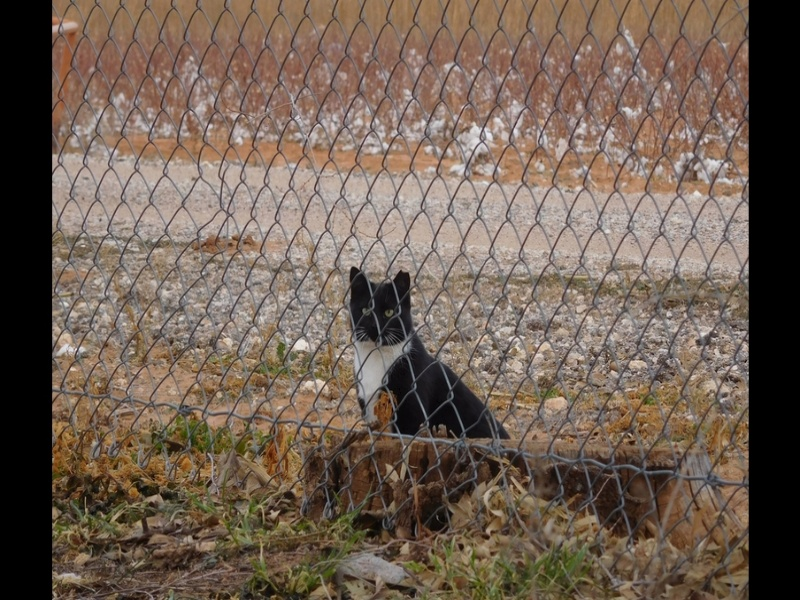cat: (337, 263, 514, 439)
